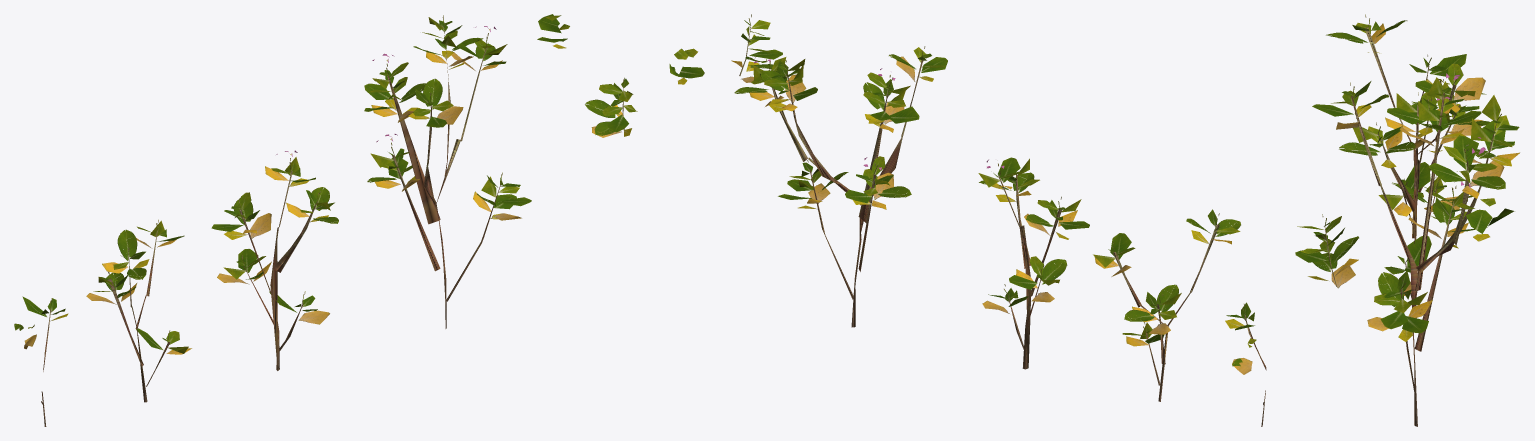
Rendered from periwinkle_plant.glb.
3 views of the same model, side by side, from view 1: azimuth 30°, elevation 25°; view 2: azimuth 150°, elevation 25°; view 3: azimuth 270°, elevation 25° (orthographic). The views are drawn at different scales.
Parts seen in each view (by area): view 1: periwinkle_plant; view 2: periwinkle_plant; view 3: periwinkle_plant.
Boxes of the visible parts, left/top/right/bottom form: periwinkle_plant: left=14, top=14, right=637, bottom=426; periwinkle_plant: left=669, top=14, right=1266, bottom=426; periwinkle_plant: left=1295, top=14, right=1519, bottom=426.
Size of the model in its own units: 0.611 by 0.3 by 0.18.
Materials: 1 (1 with a texture image).
